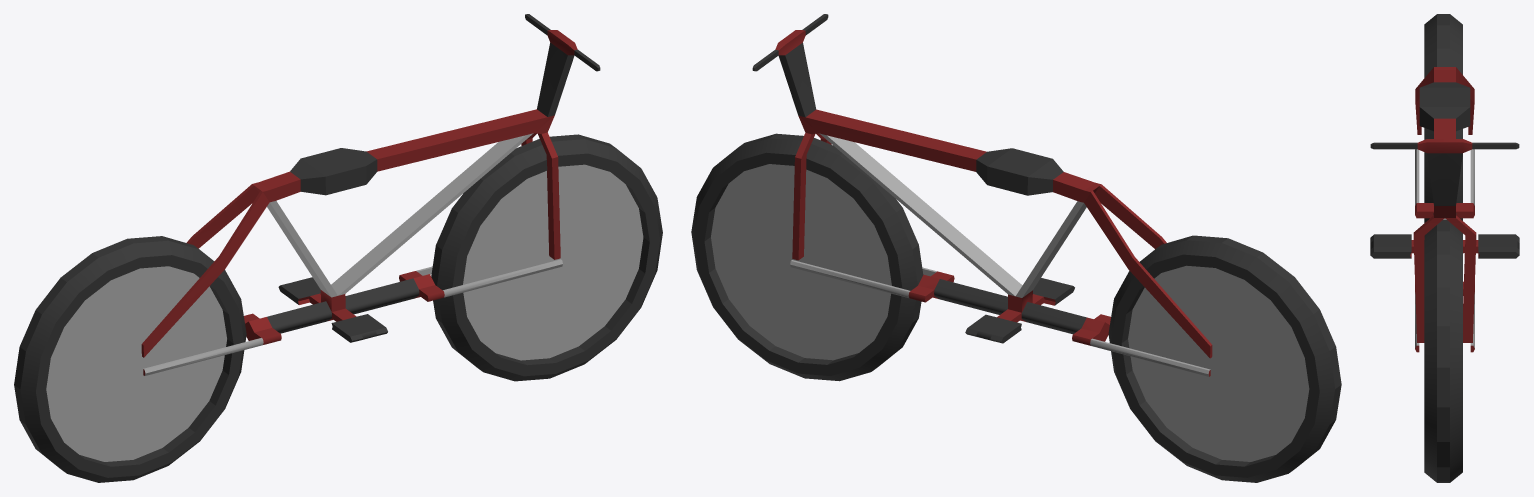
File: bike.fbx
3 views of the same model, side by side, from view 1: azimuth 30°, elevation 25°; view 2: azimuth 150°, elevation 25°; view 3: azimuth 270°, elevation 25° (orthographic).
Visible parts, largest first — view 1: Wheel2, Wheel1, BikeChassis1; view 2: Wheel2, Wheel1, BikeChassis1; view 3: BikeChassis1, Wheel1, Wheel2.
Part boxes in pixels (x1,y1,x2,y2): Wheel2: [14, 236, 246, 482]; Wheel1: [431, 134, 662, 381]; BikeChassis1: [141, 14, 600, 375]; Wheel2: [1108, 235, 1341, 482]; Wheel1: [691, 133, 923, 381]; BikeChassis1: [752, 14, 1212, 376]; BikeChassis1: [1370, 67, 1519, 352]; Wheel1: [1424, 220, 1462, 482]; Wheel2: [1424, 14, 1462, 222].
Bounding box in the file's own units: 6.17 × 3.07 × 1.23.
